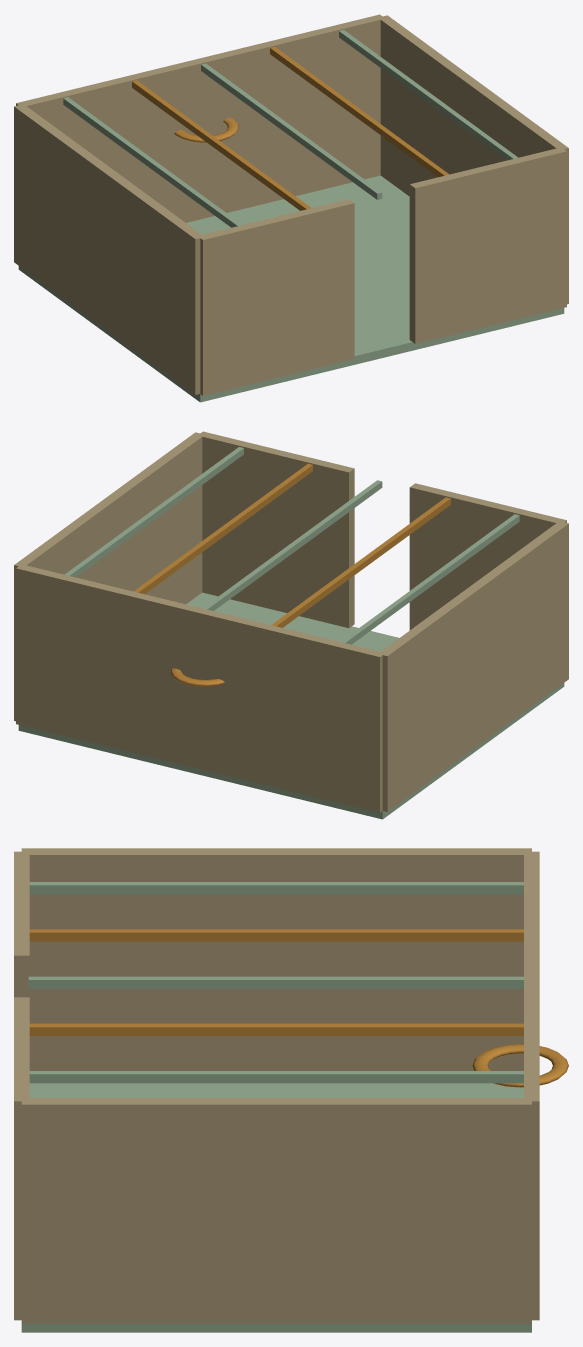
The model's file is gear_workshop_main.glb.
3 renders of one model, top to bottom at view 1: azimuth 30°, elevation 25°; view 2: azimuth 150°, elevation 25°; view 3: azimuth 270°, elevation 25°, orthographic. The views are drawn at different scales.
Parts seen in each view (by area): view 1: wall_north, wall_west, wall_south_right, wall_south_left, wall_east, floor, ceiling_beam_0, ceiling_beam_-2, ceiling_beam_-1, ceiling_beam_1, ceiling_beam_2, purpose_gear_workshop; view 2: wall_north, wall_west, wall_south_right, wall_east, wall_south_left, floor, ceiling_beam_0, ceiling_beam_-2, ceiling_beam_-1, ceiling_beam_1, ceiling_beam_2; view 3: wall_east, wall_west, floor, ceiling_beam_0, ceiling_beam_-1, ceiling_beam_-2, ceiling_beam_1, ceiling_beam_2, wall_north, wall_south_right, wall_south_left, purpose_gear_workshop.
Part boxes in pixels (bbox=[...]): wall_north: bbox=[16, 14, 384, 222]; wall_west: bbox=[14, 105, 204, 394]; wall_south_right: bbox=[409, 147, 566, 343]; wall_south_left: bbox=[198, 199, 354, 395]; wall_east: bbox=[379, 15, 568, 304]; floor: bbox=[18, 175, 564, 402]; ceiling_beam_0: bbox=[201, 63, 382, 199]; ceiling_beam_-2: bbox=[63, 97, 242, 227]; ceiling_beam_-1: bbox=[132, 80, 311, 210]; ceiling_beam_1: bbox=[270, 46, 449, 177]; ceiling_beam_2: bbox=[339, 30, 517, 160]; purpose_gear_workshop: bbox=[174, 118, 238, 142]; wall_north: bbox=[16, 564, 384, 812]; wall_west: bbox=[378, 522, 568, 811]; wall_south_right: bbox=[199, 431, 354, 628]; wall_east: bbox=[14, 432, 204, 721]; wall_south_left: bbox=[409, 483, 566, 630]; floor: bbox=[18, 592, 564, 819]; ceiling_beam_0: bbox=[203, 480, 382, 610]; ceiling_beam_-2: bbox=[340, 514, 519, 644]; ceiling_beam_-1: bbox=[271, 497, 450, 627]; ceiling_beam_1: bbox=[133, 463, 312, 594]; ceiling_beam_2: bbox=[65, 447, 243, 577]; wall_east: bbox=[21, 1098, 531, 1323]; wall_west: bbox=[21, 848, 531, 1070]; floor: bbox=[21, 1083, 531, 1332]; ceiling_beam_0: bbox=[28, 976, 523, 988]; ceiling_beam_-1: bbox=[29, 929, 523, 941]; ceiling_beam_-2: bbox=[29, 882, 523, 894]; ceiling_beam_1: bbox=[29, 1023, 523, 1035]; ceiling_beam_2: bbox=[29, 1071, 523, 1083]; wall_north: bbox=[524, 851, 539, 1320]; wall_south_right: bbox=[14, 997, 29, 1320]; wall_south_left: bbox=[14, 851, 29, 997]; purpose_gear_workshop: bbox=[472, 1044, 568, 1087].
Size of what is drawn, in the model's own units: 13.55 by 5.7 by 12.41.
